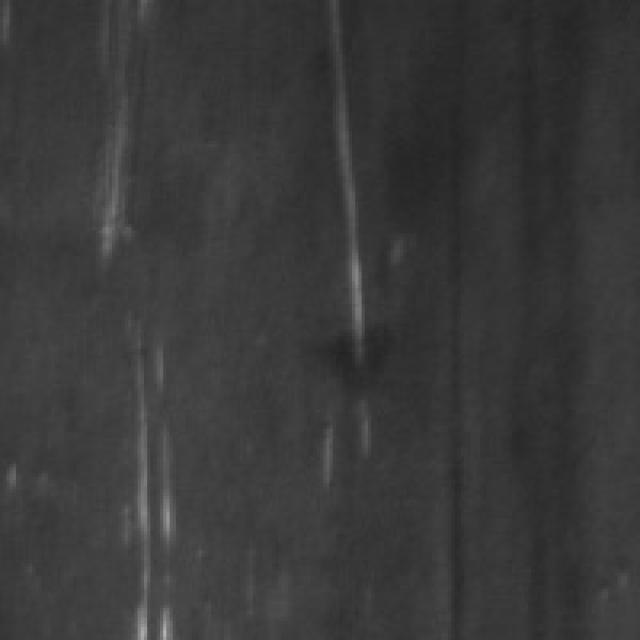inclusion: (493, 3, 592, 627), (435, 221, 474, 637)
scratches: (310, 3, 372, 467), (121, 320, 182, 637), (86, 64, 141, 272)
